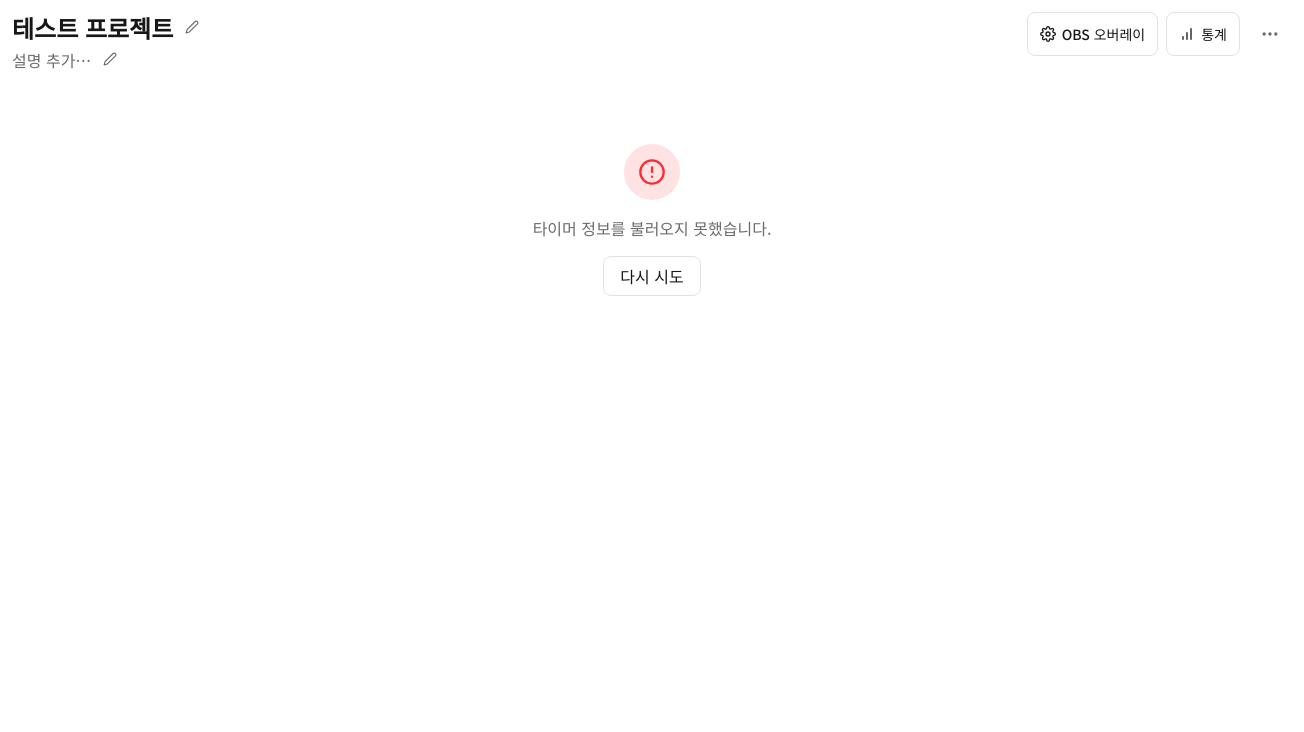
Test: 타이머 상세 요청 시간 제한 › 상세가 응답 없이 멈추면 10초 뒤 콘솔 자리에 오류와 '다시 시도'를 바로 보인다(콘솔이 10초를 더 기다리지 않는다)
The image size is (1304, 732).
Expected: the heading "테스트 프로젝트" is shown, [12, 12, 173, 44]
Expected: the text "타이머 정보를 불러오지 못했습니다." is shown, [533, 216, 771, 240]
Click the button "다시 시도" at (652, 276), box [603, 256, 701, 296]
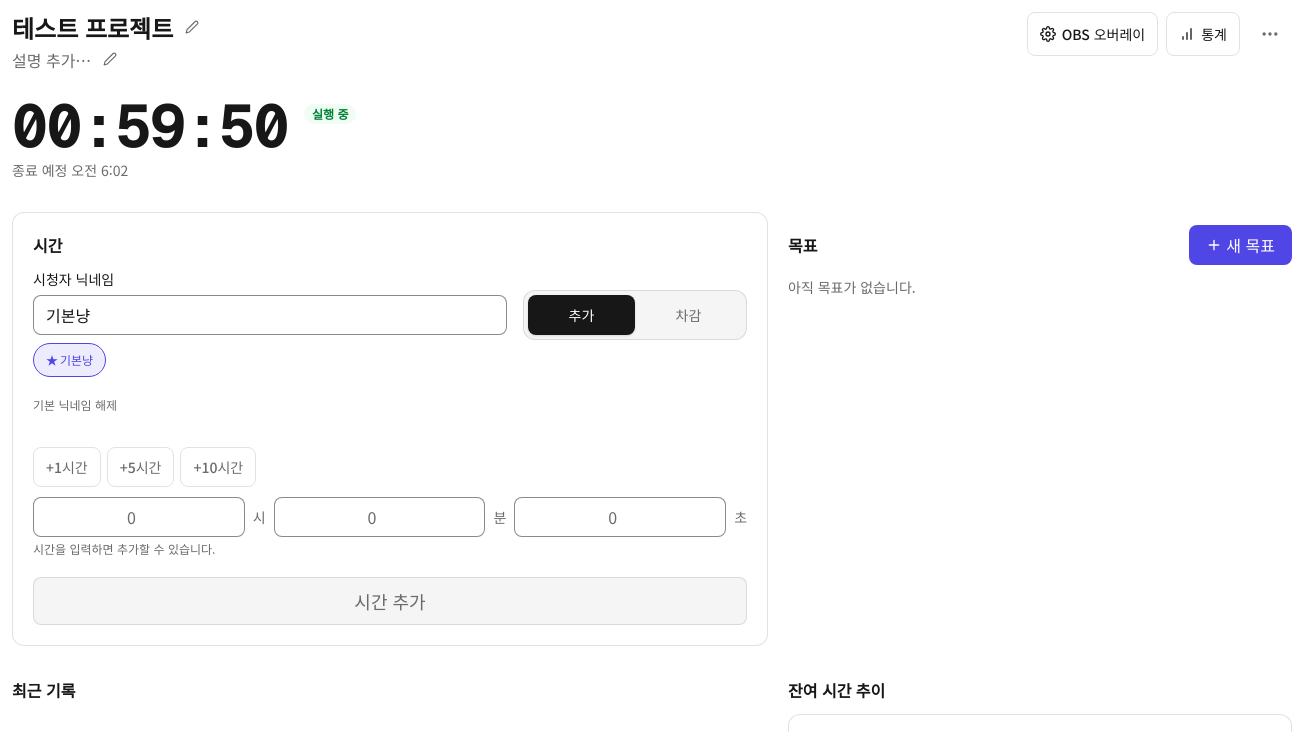
Result: the element "시간" is shown at [12, 212, 768, 646]
